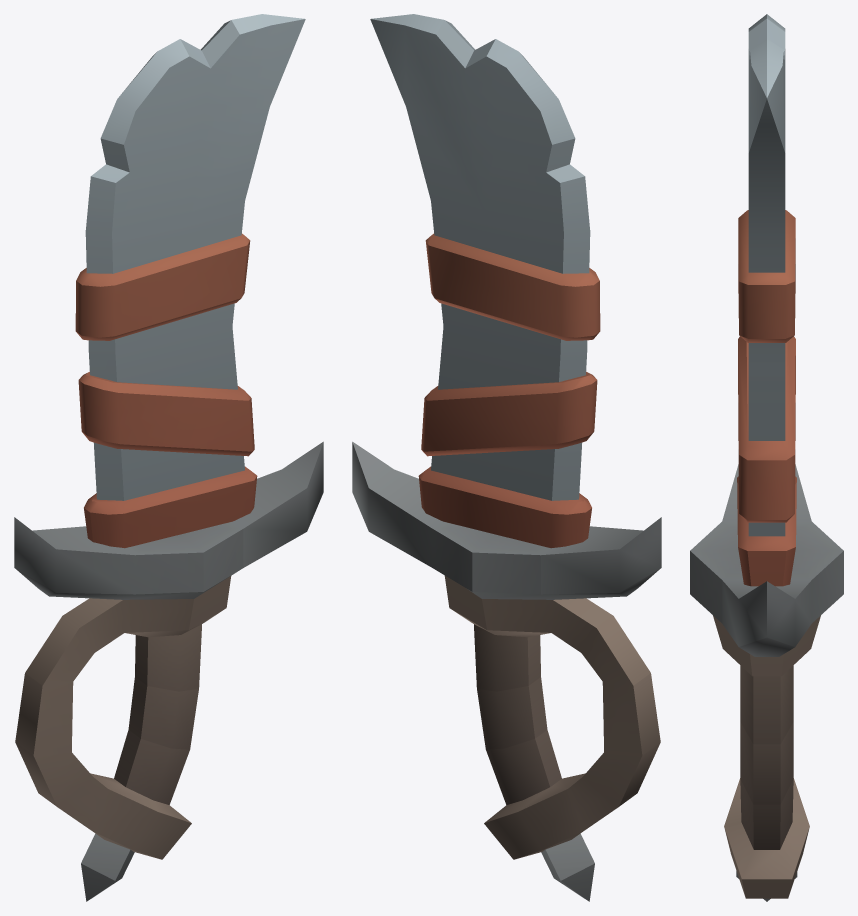
The model's file is kaykit-skeleton-blade.glb.
The picture shows the model from 3 angles, left to right: view 1: azimuth 30°, elevation 25°; view 2: azimuth 150°, elevation 25°; view 3: azimuth 270°, elevation 25°; orthographic projection. The views are drawn at different scales.
Parts seen in each view (by area): view 1: kaykit-skeleton-blade; view 2: kaykit-skeleton-blade; view 3: kaykit-skeleton-blade.
Part boxes in pixels (x1,y1,x2,y2): kaykit-skeleton-blade: [14, 14, 323, 901]; kaykit-skeleton-blade: [352, 14, 661, 901]; kaykit-skeleton-blade: [690, 14, 843, 901].
Size of the model in its own units: 0.4295 by 1.12 by 0.1667.
1 material, 1 textured.
